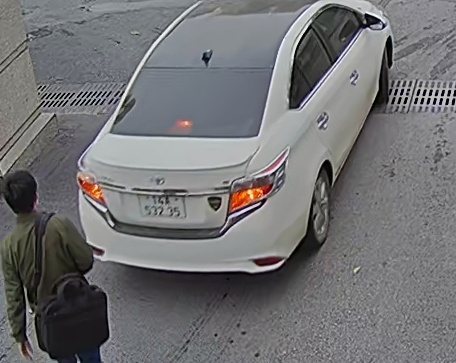vehicle plate: (136, 186, 186, 219)
